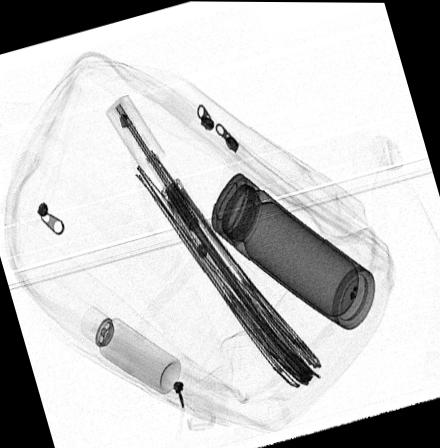Sprayer: (81, 305, 181, 393)
